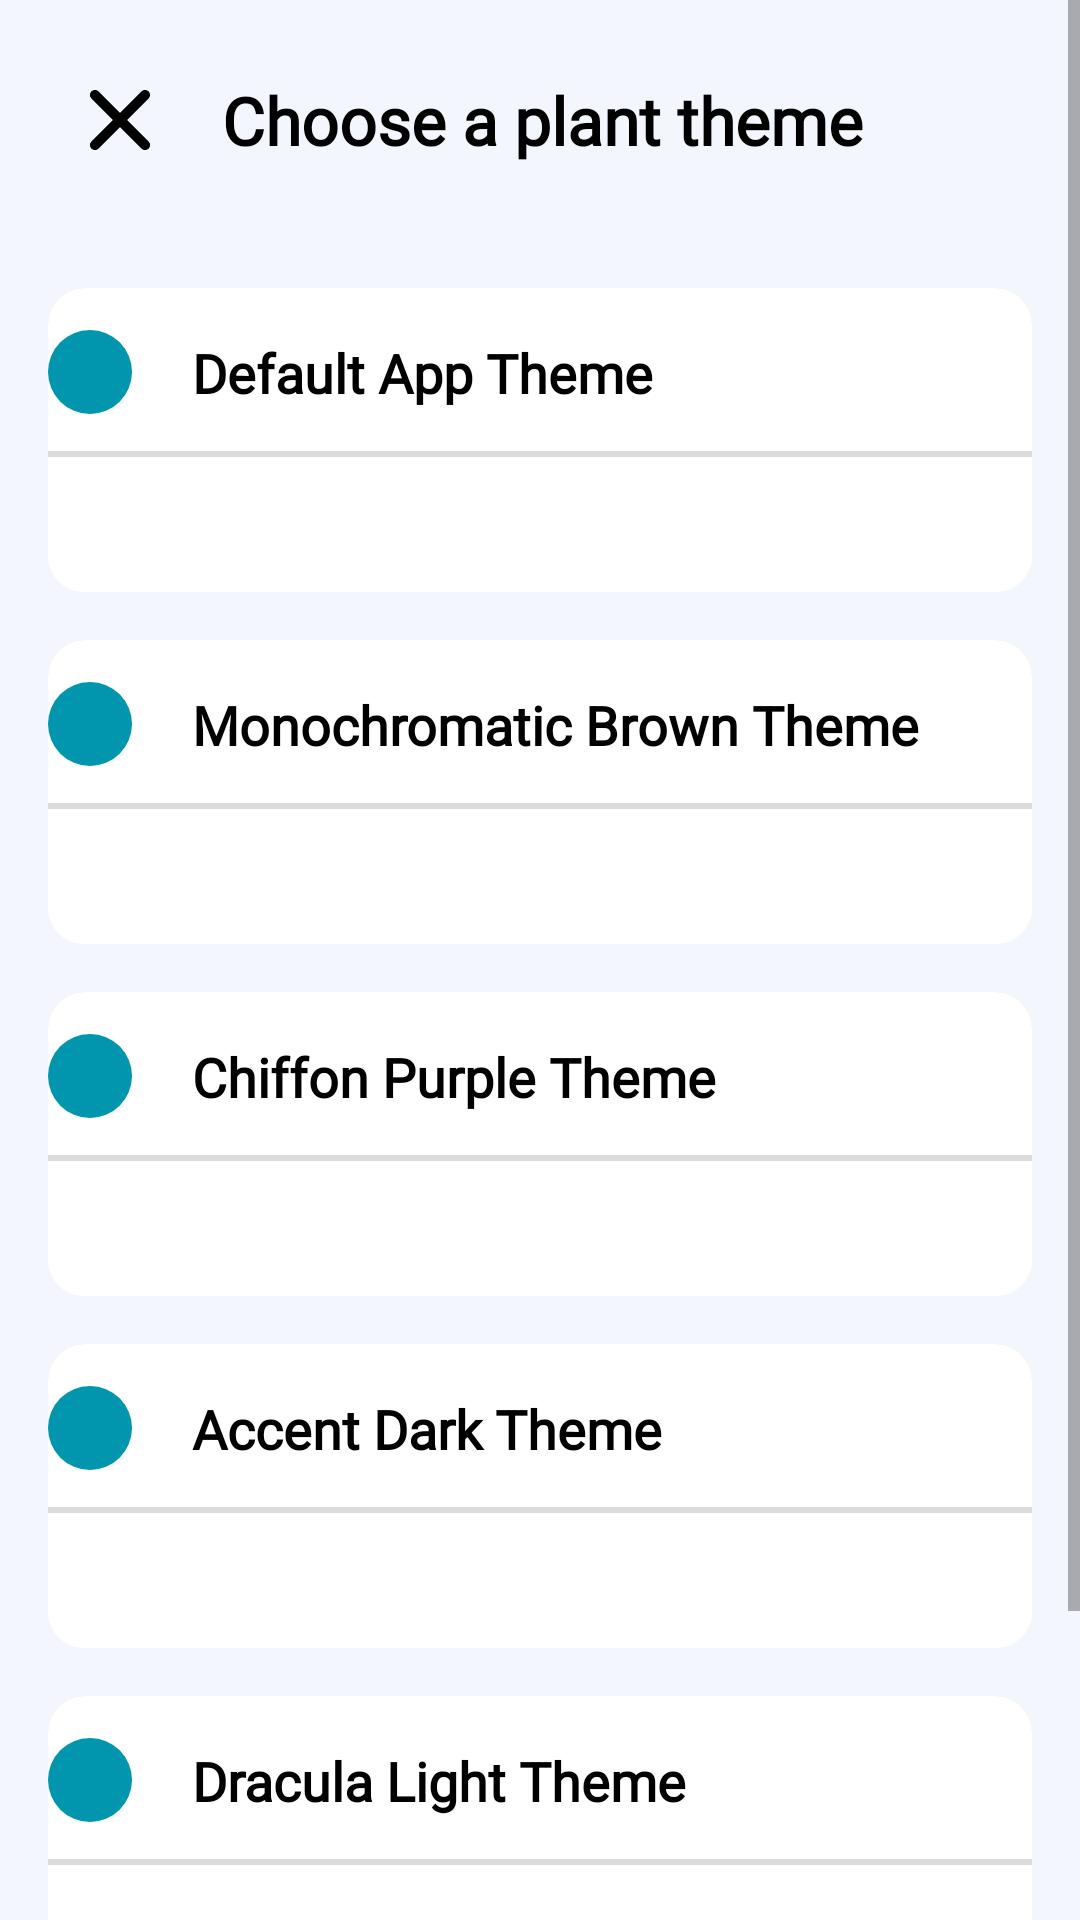

Named icons in this screenshot (1080 × 1920) and their bounding boxes, bbox=(x1, y1, x2, y2):
cross: bbox=(90, 90, 150, 150)
